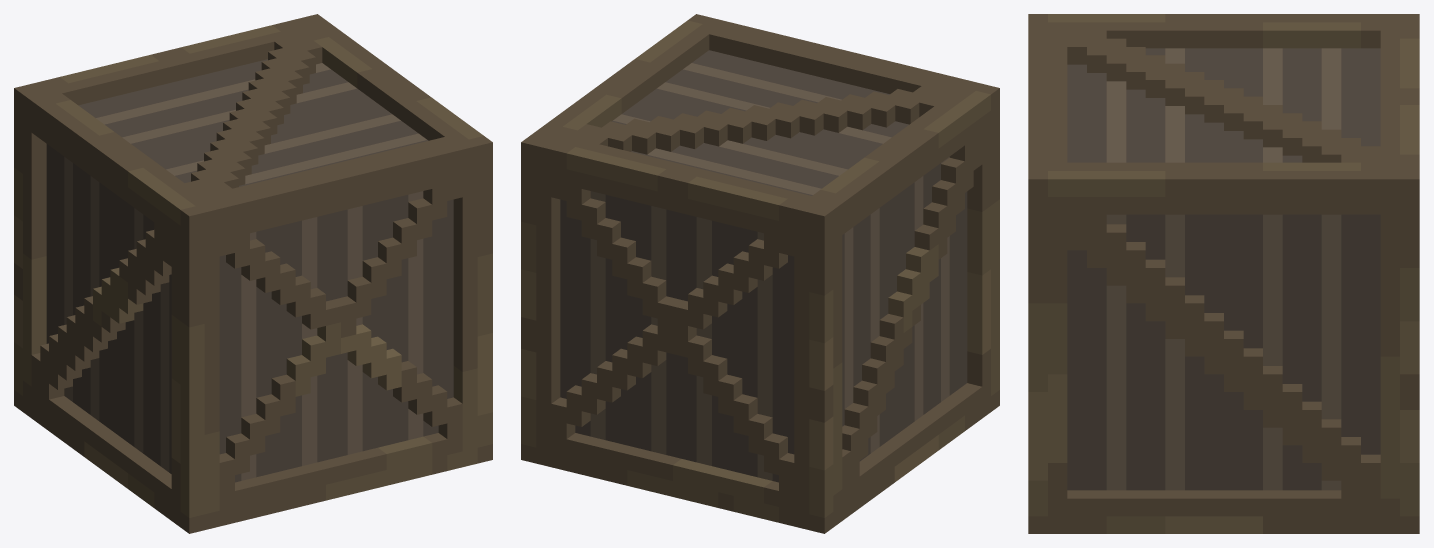
File: Bunker - Free Sample-71-Crate-1.obj
The picture shows the model from 3 angles, left to right: view 1: azimuth 30°, elevation 25°; view 2: azimuth 150°, elevation 25°; view 3: azimuth 270°, elevation 25°; orthographic projection. The views are drawn at different scales.
Parts seen in each view (by area): view 1: Crate-1; view 2: Crate-1; view 3: Crate-1.
Part boxes in pixels (left/top/right/bottom): Crate-1: left=14, top=14, right=492, bottom=533; Crate-1: left=521, top=14, right=999, bottom=533; Crate-1: left=1028, top=14, right=1419, bottom=533.
Size of the model in its own units: 0.4 by 0.4 by 0.4.
Materials: 1 (1 with a texture image).
